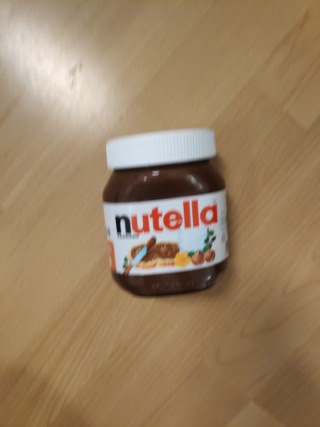nutella: (100, 125, 230, 298)
